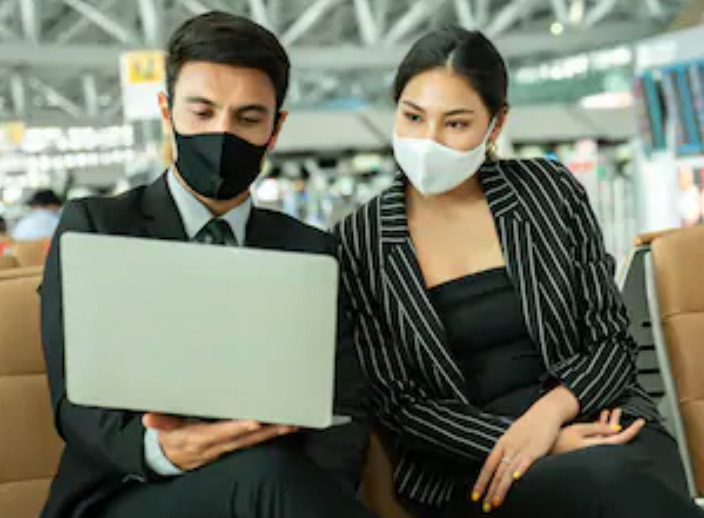Bad: (53, 10, 604, 238)
